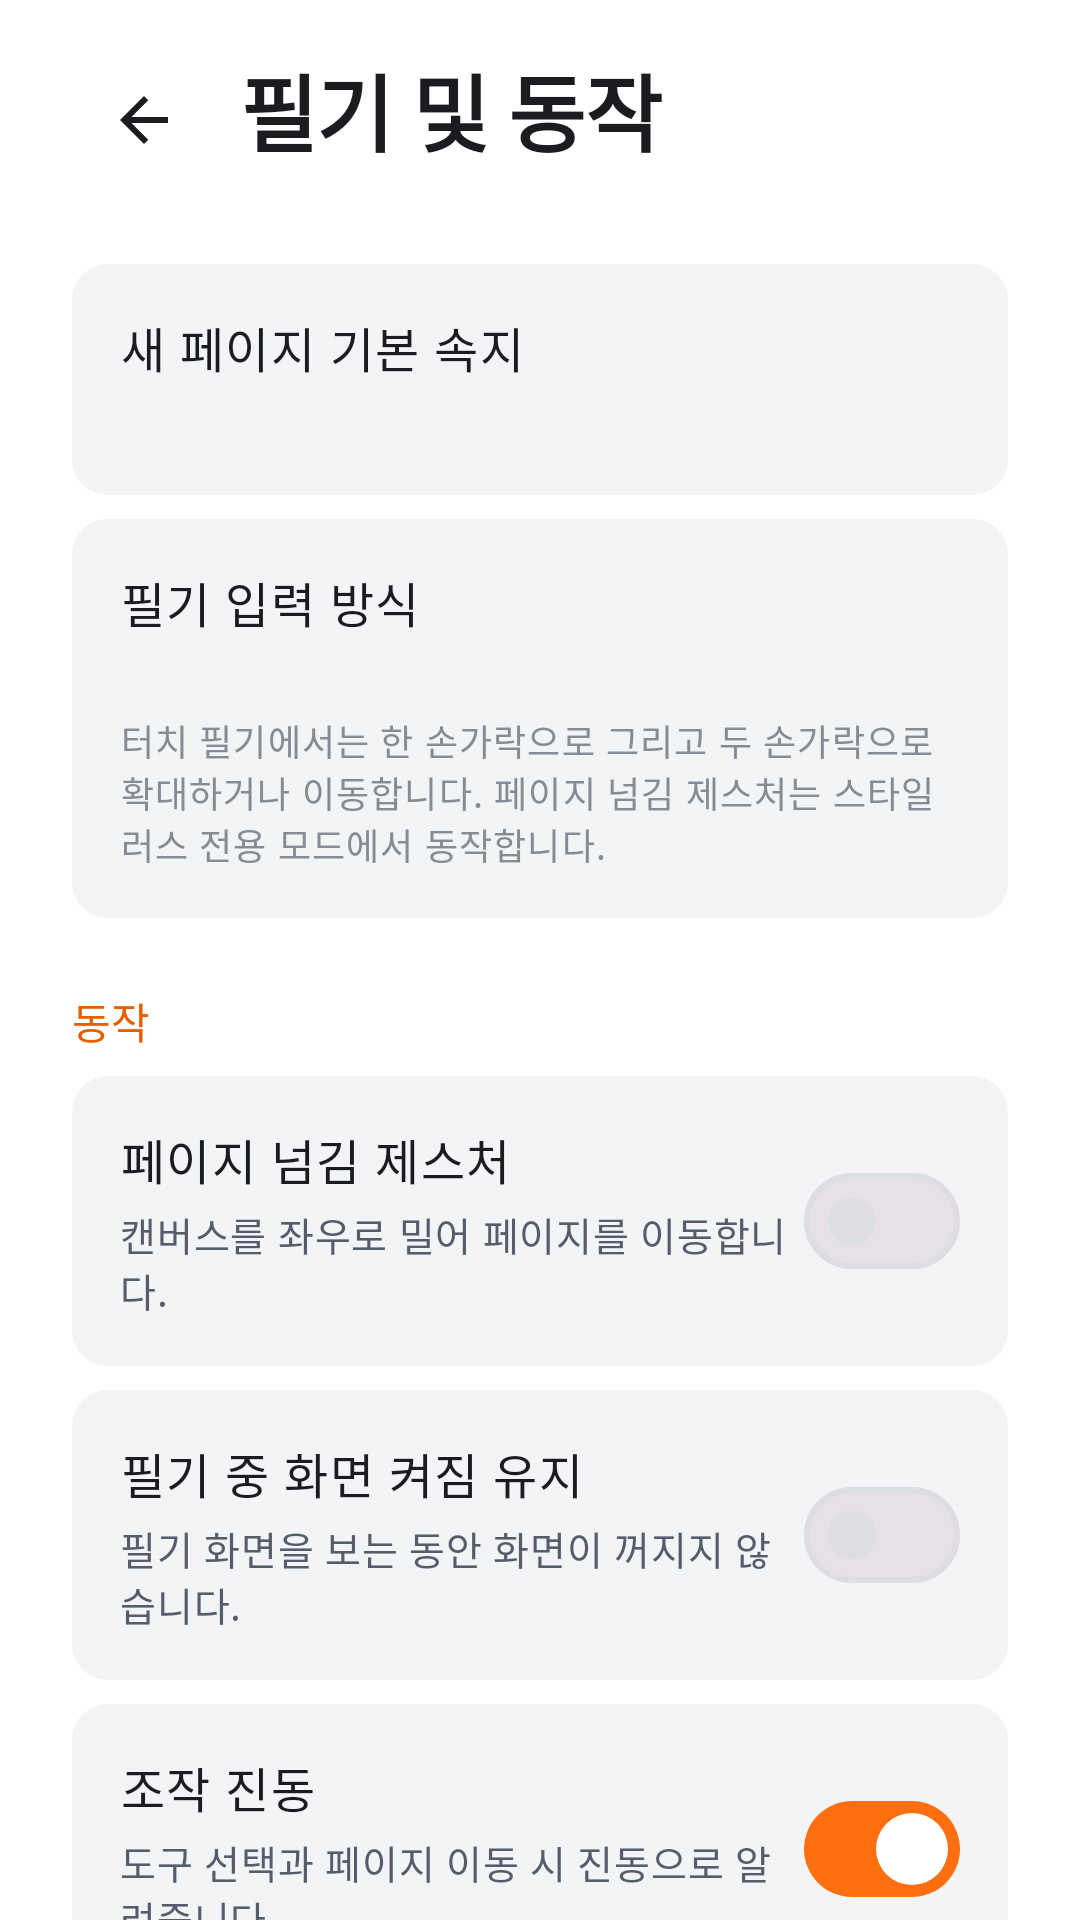

Icons on this 1080*1920 Android screen, each with the point to tap as (x,y):
뒤로: (144,120)
